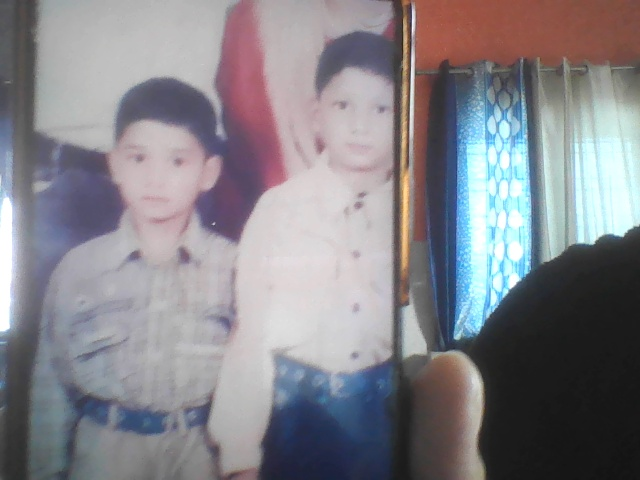fake: (109, 79, 219, 235)
